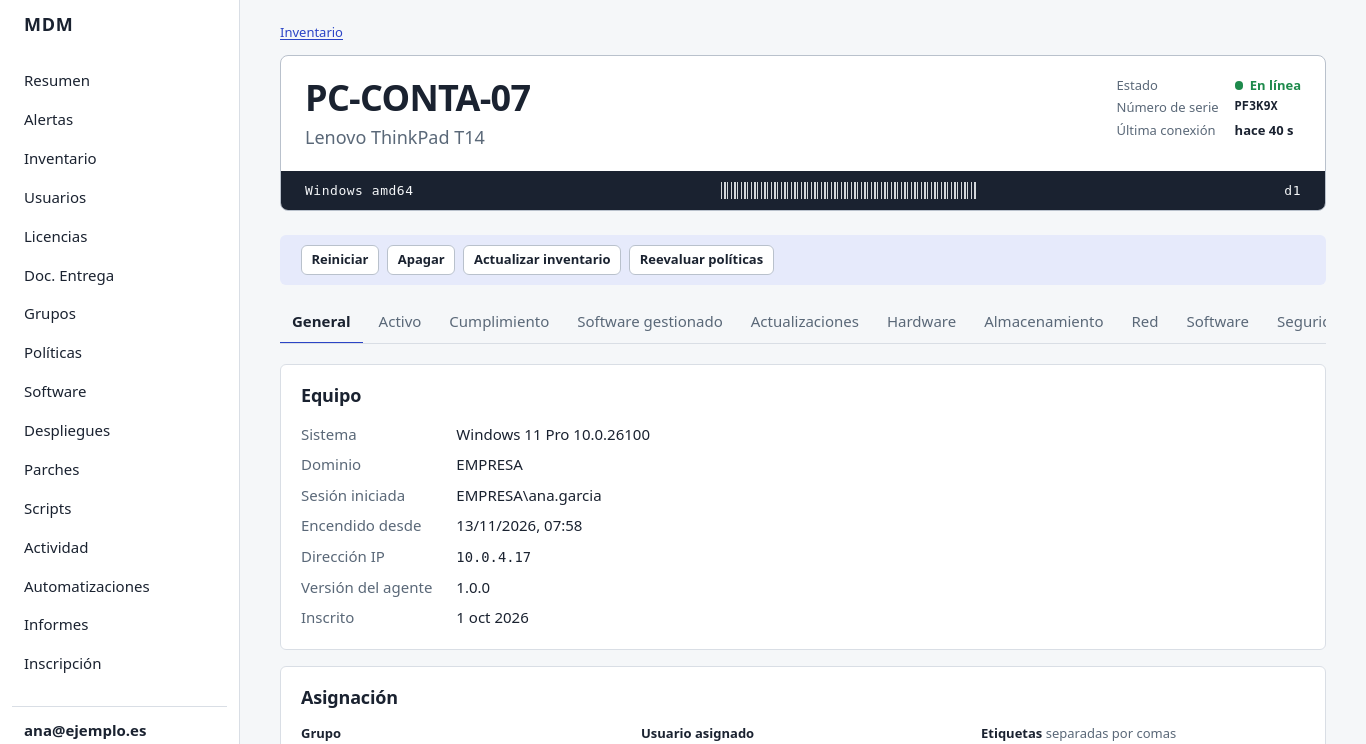
Test case: Cumplimiento del dispositivo › un operador ve que hay clave custodiada pero no puede mostrarla
Step 1. Click the tab "Cumplimiento" → [499, 322], box left=437, top=300, right=561, bottom=344
(page scrolled)
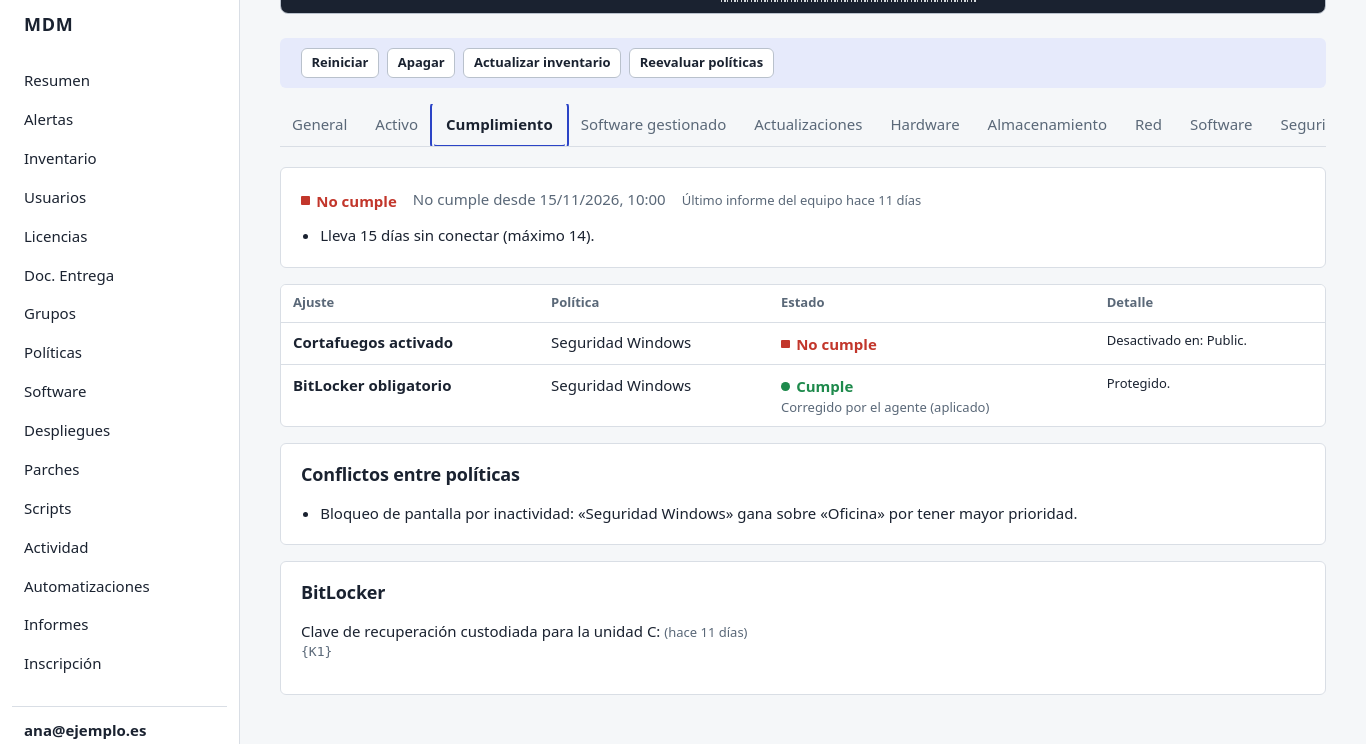
Expected: the text "Clave de recuperación custodiada" is shown, left=301, top=621, right=647, bottom=641
